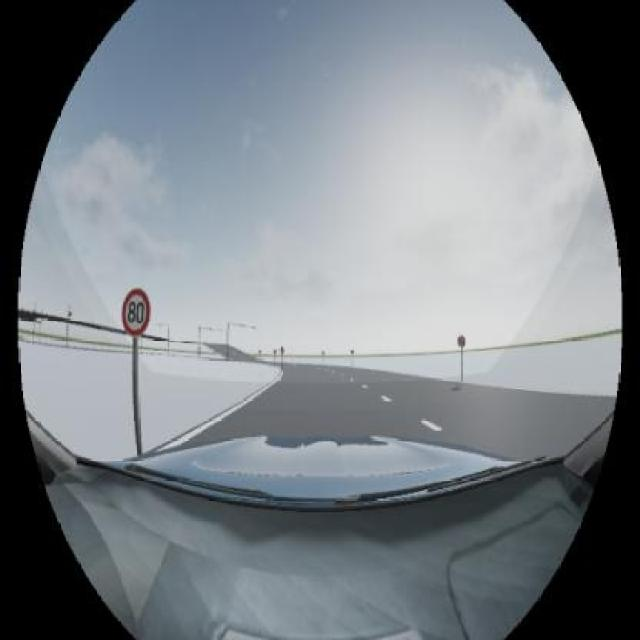forb_speed_over_80: (122, 289, 150, 334)
